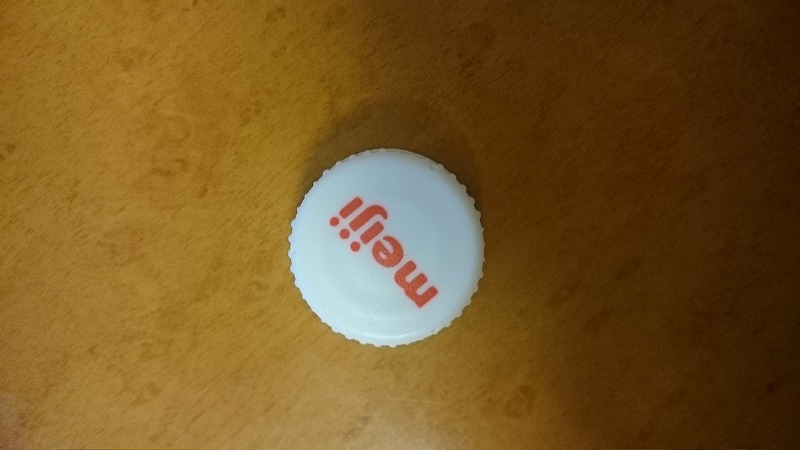B: (281, 132, 490, 354)
